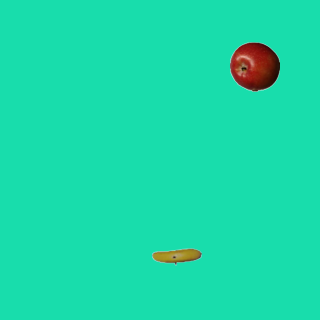Apple Braeburn: (229, 41, 279, 91)
Banana: (151, 231, 201, 281)
